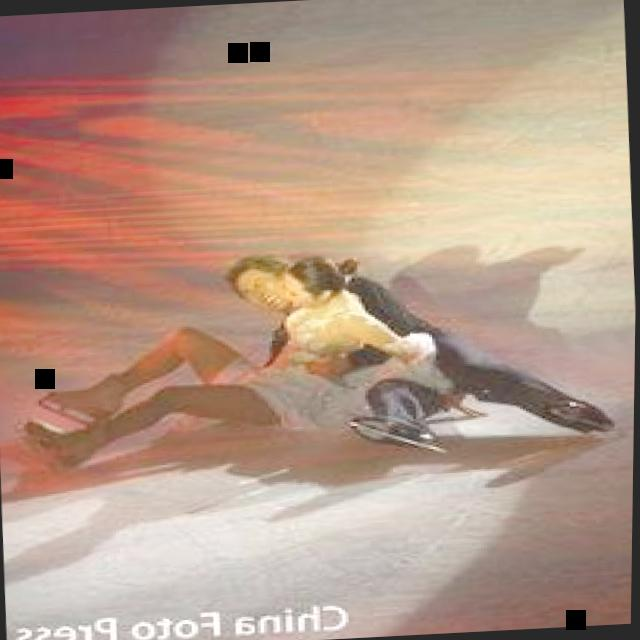Fall-Detected: (0, 234, 422, 469)
